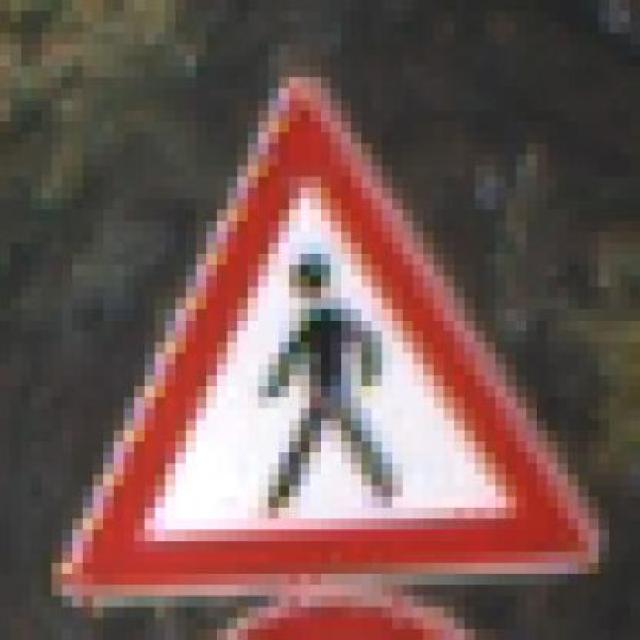Pedestrian Crossing: (41, 55, 619, 607)
